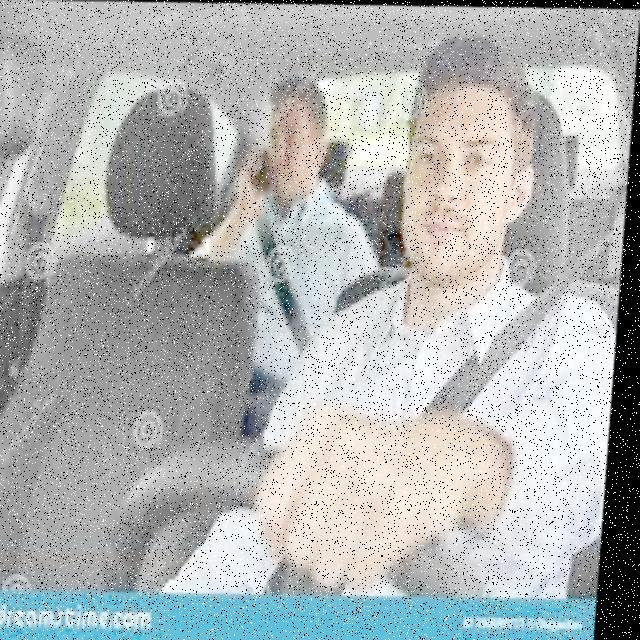seatbelt: (341, 246, 626, 494), (244, 150, 363, 314)
